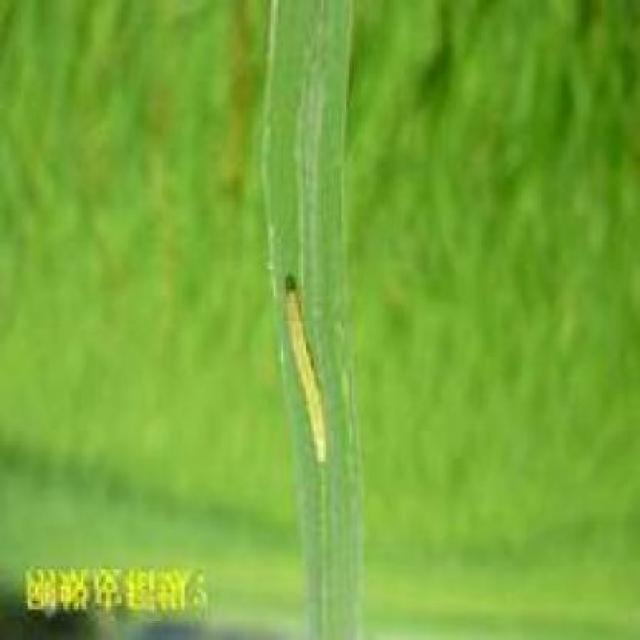leaf-folder: (257, 268, 346, 480)
